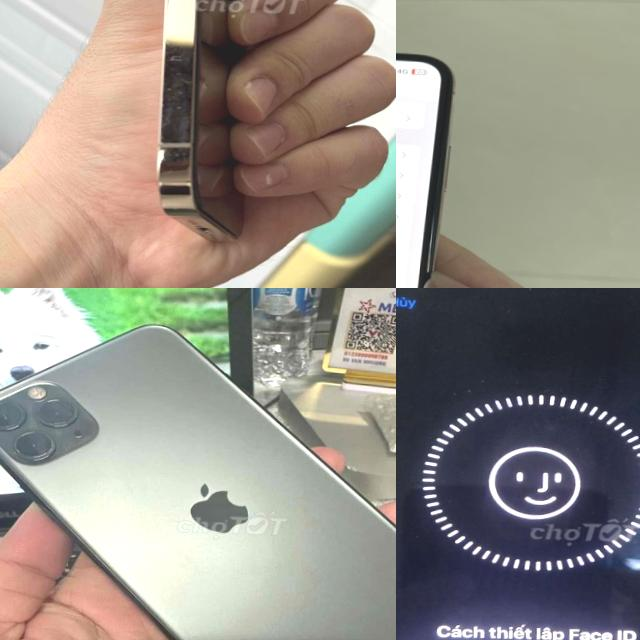gen_11: (0, 313, 396, 640)
gen_12_13: (140, 0, 280, 247)
gen_x_xs: (396, 288, 640, 640)
